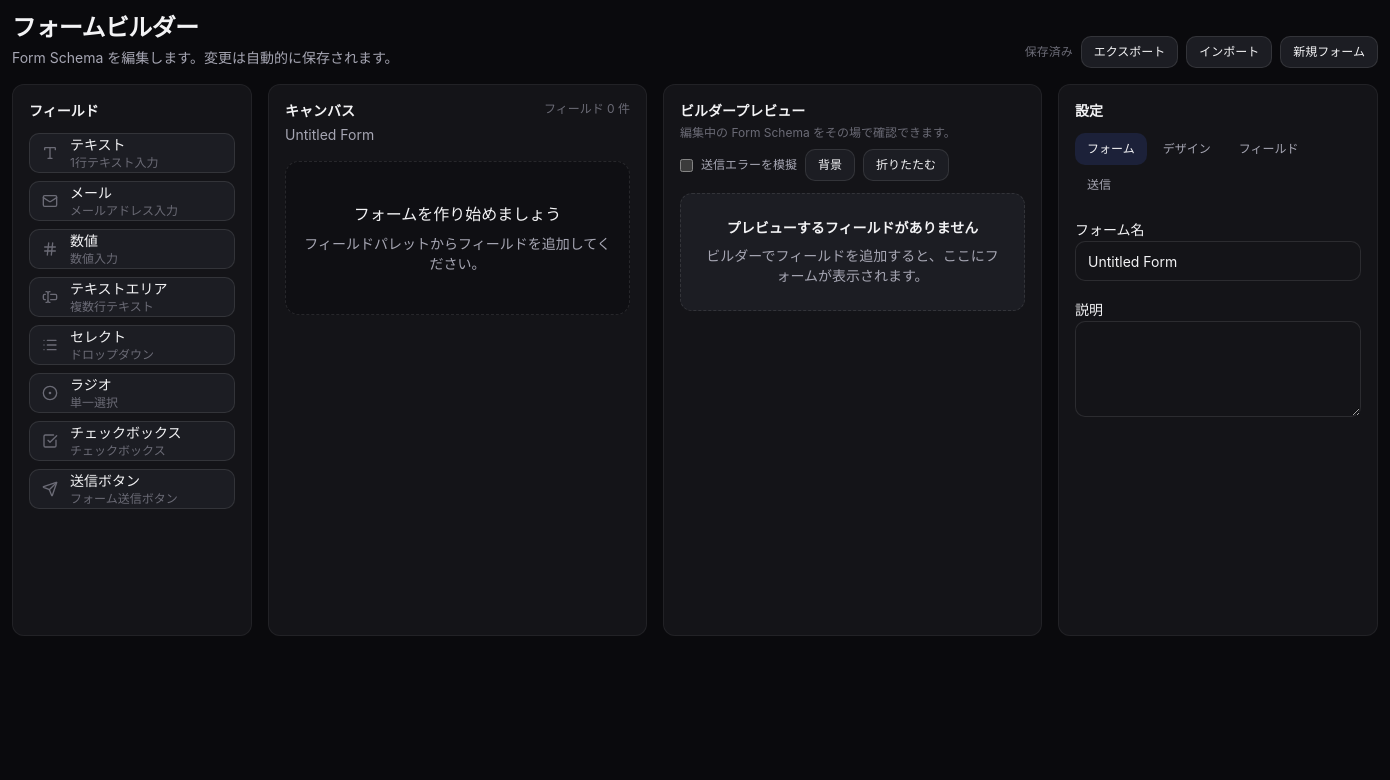
it: BuilderWorkspace › duplicates and deletes a field
Click the button "メール メールアドレス入力".
click(132, 201)  # box [29, 181, 235, 221]
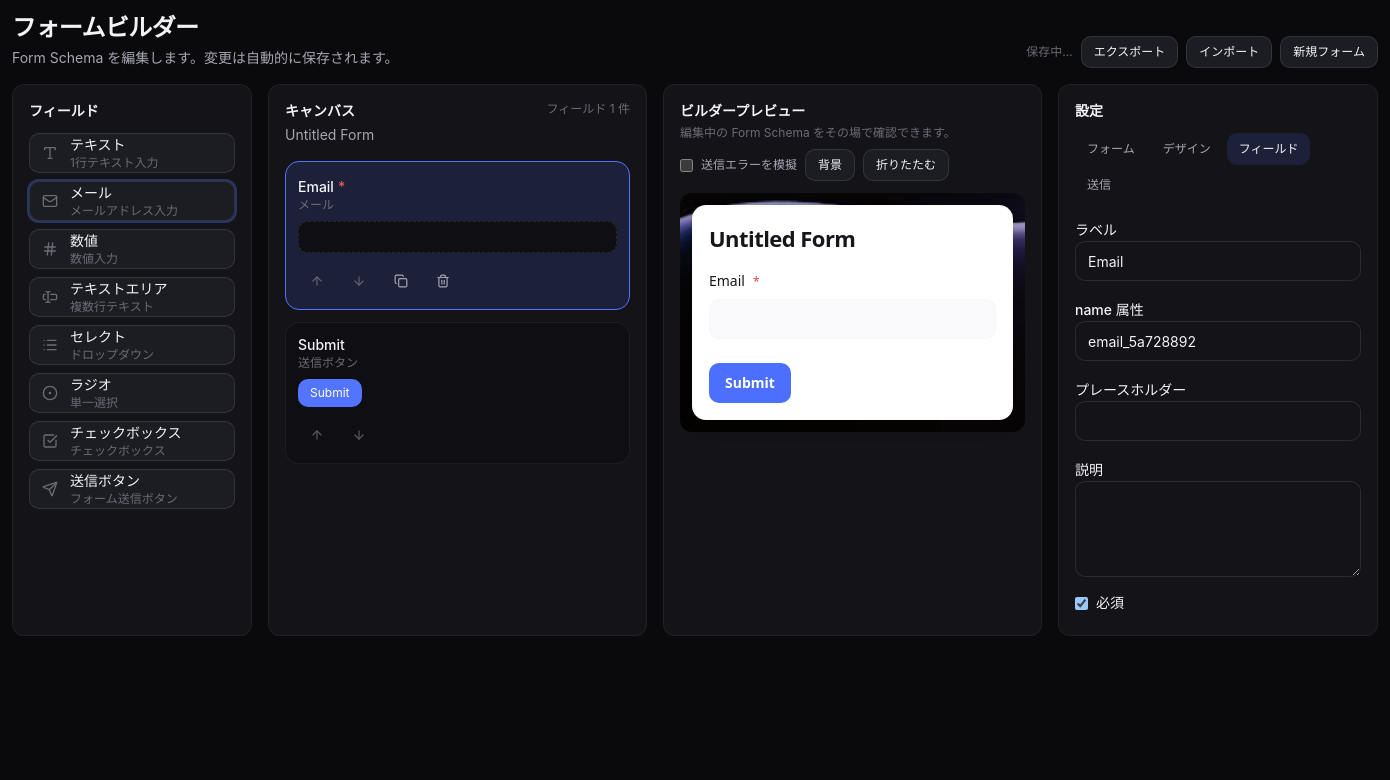
Expected: the element "キャンバス" is shown, [268, 84, 647, 636]
Click the button named "複製".
click(401, 281)  # box [382, 265, 420, 297]
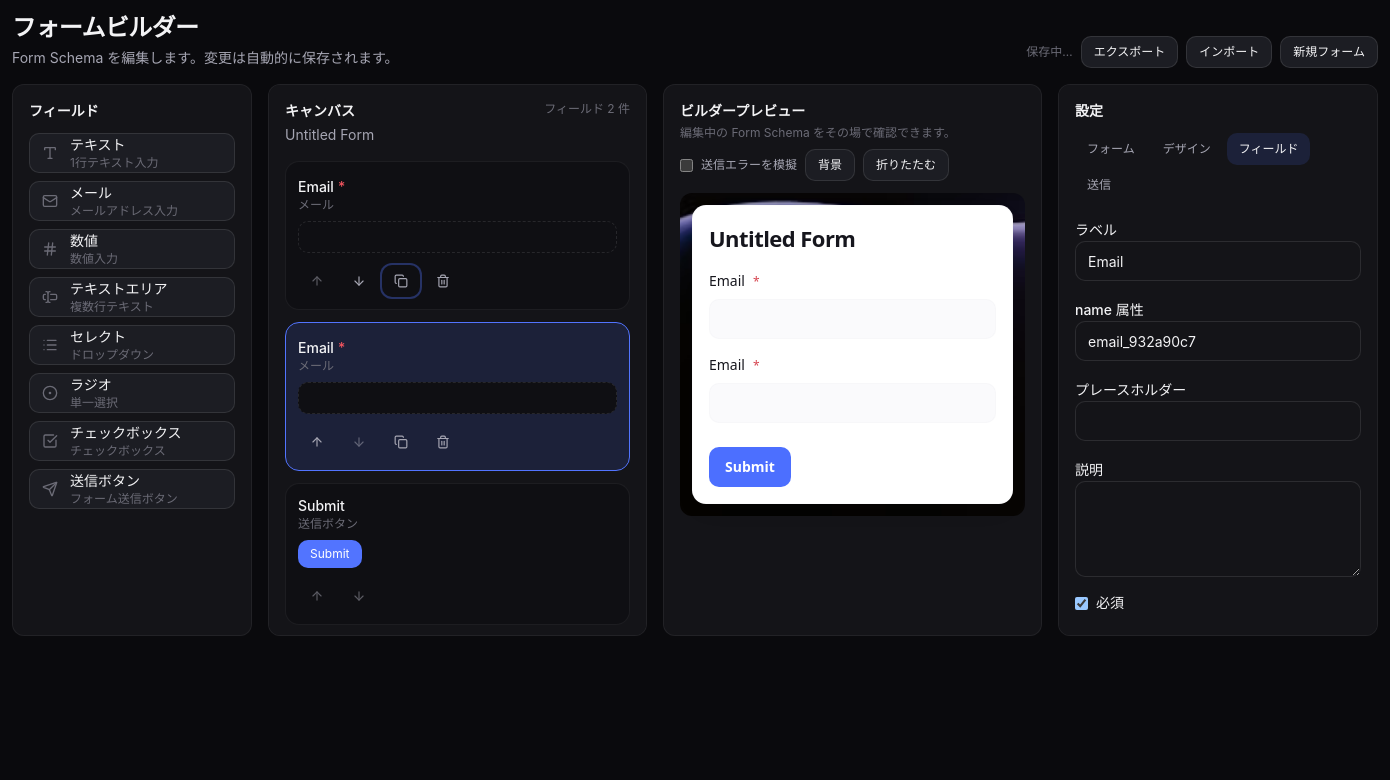
Now the text "フィールド 2 件" is shown, box [544, 101, 630, 117]
Click the 1st button named "削除".
click(443, 281)  # box [424, 265, 462, 297]
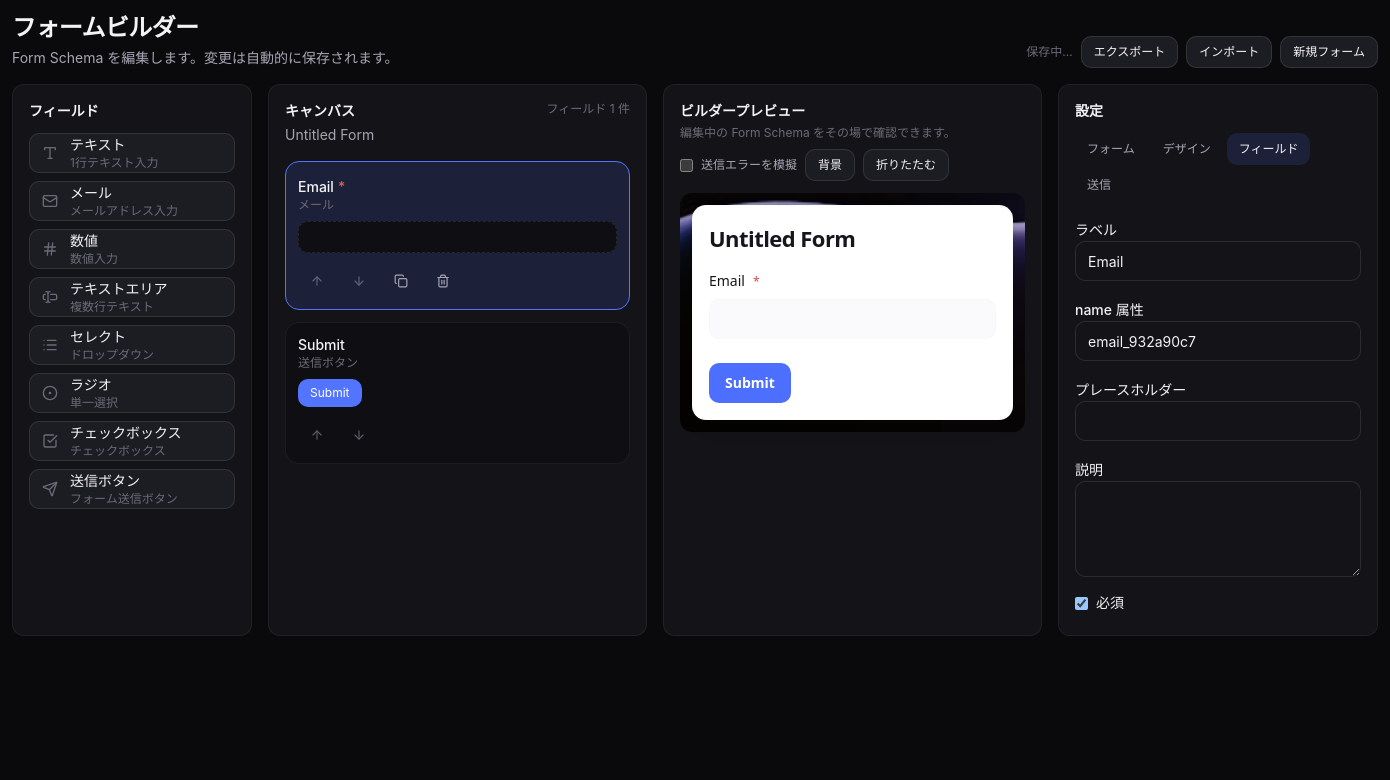
Now the text "フィールド 1 件" is shown, box [547, 101, 630, 117]
